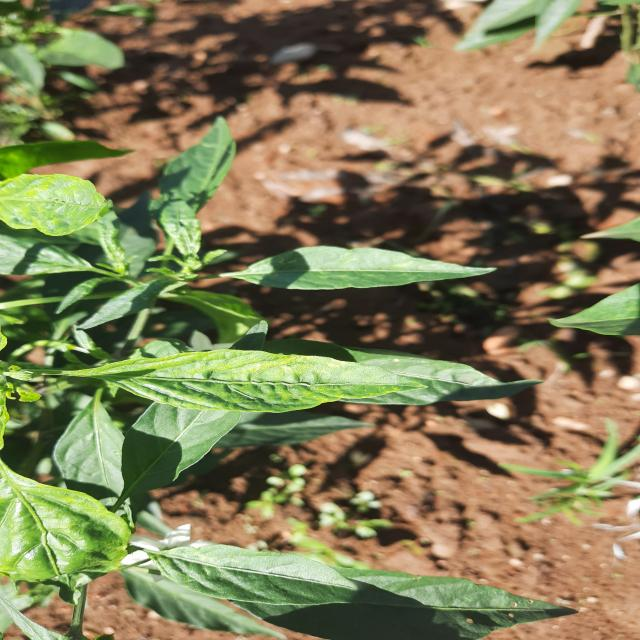thrips: (63, 330, 455, 422), (0, 472, 134, 582), (0, 165, 136, 248)
